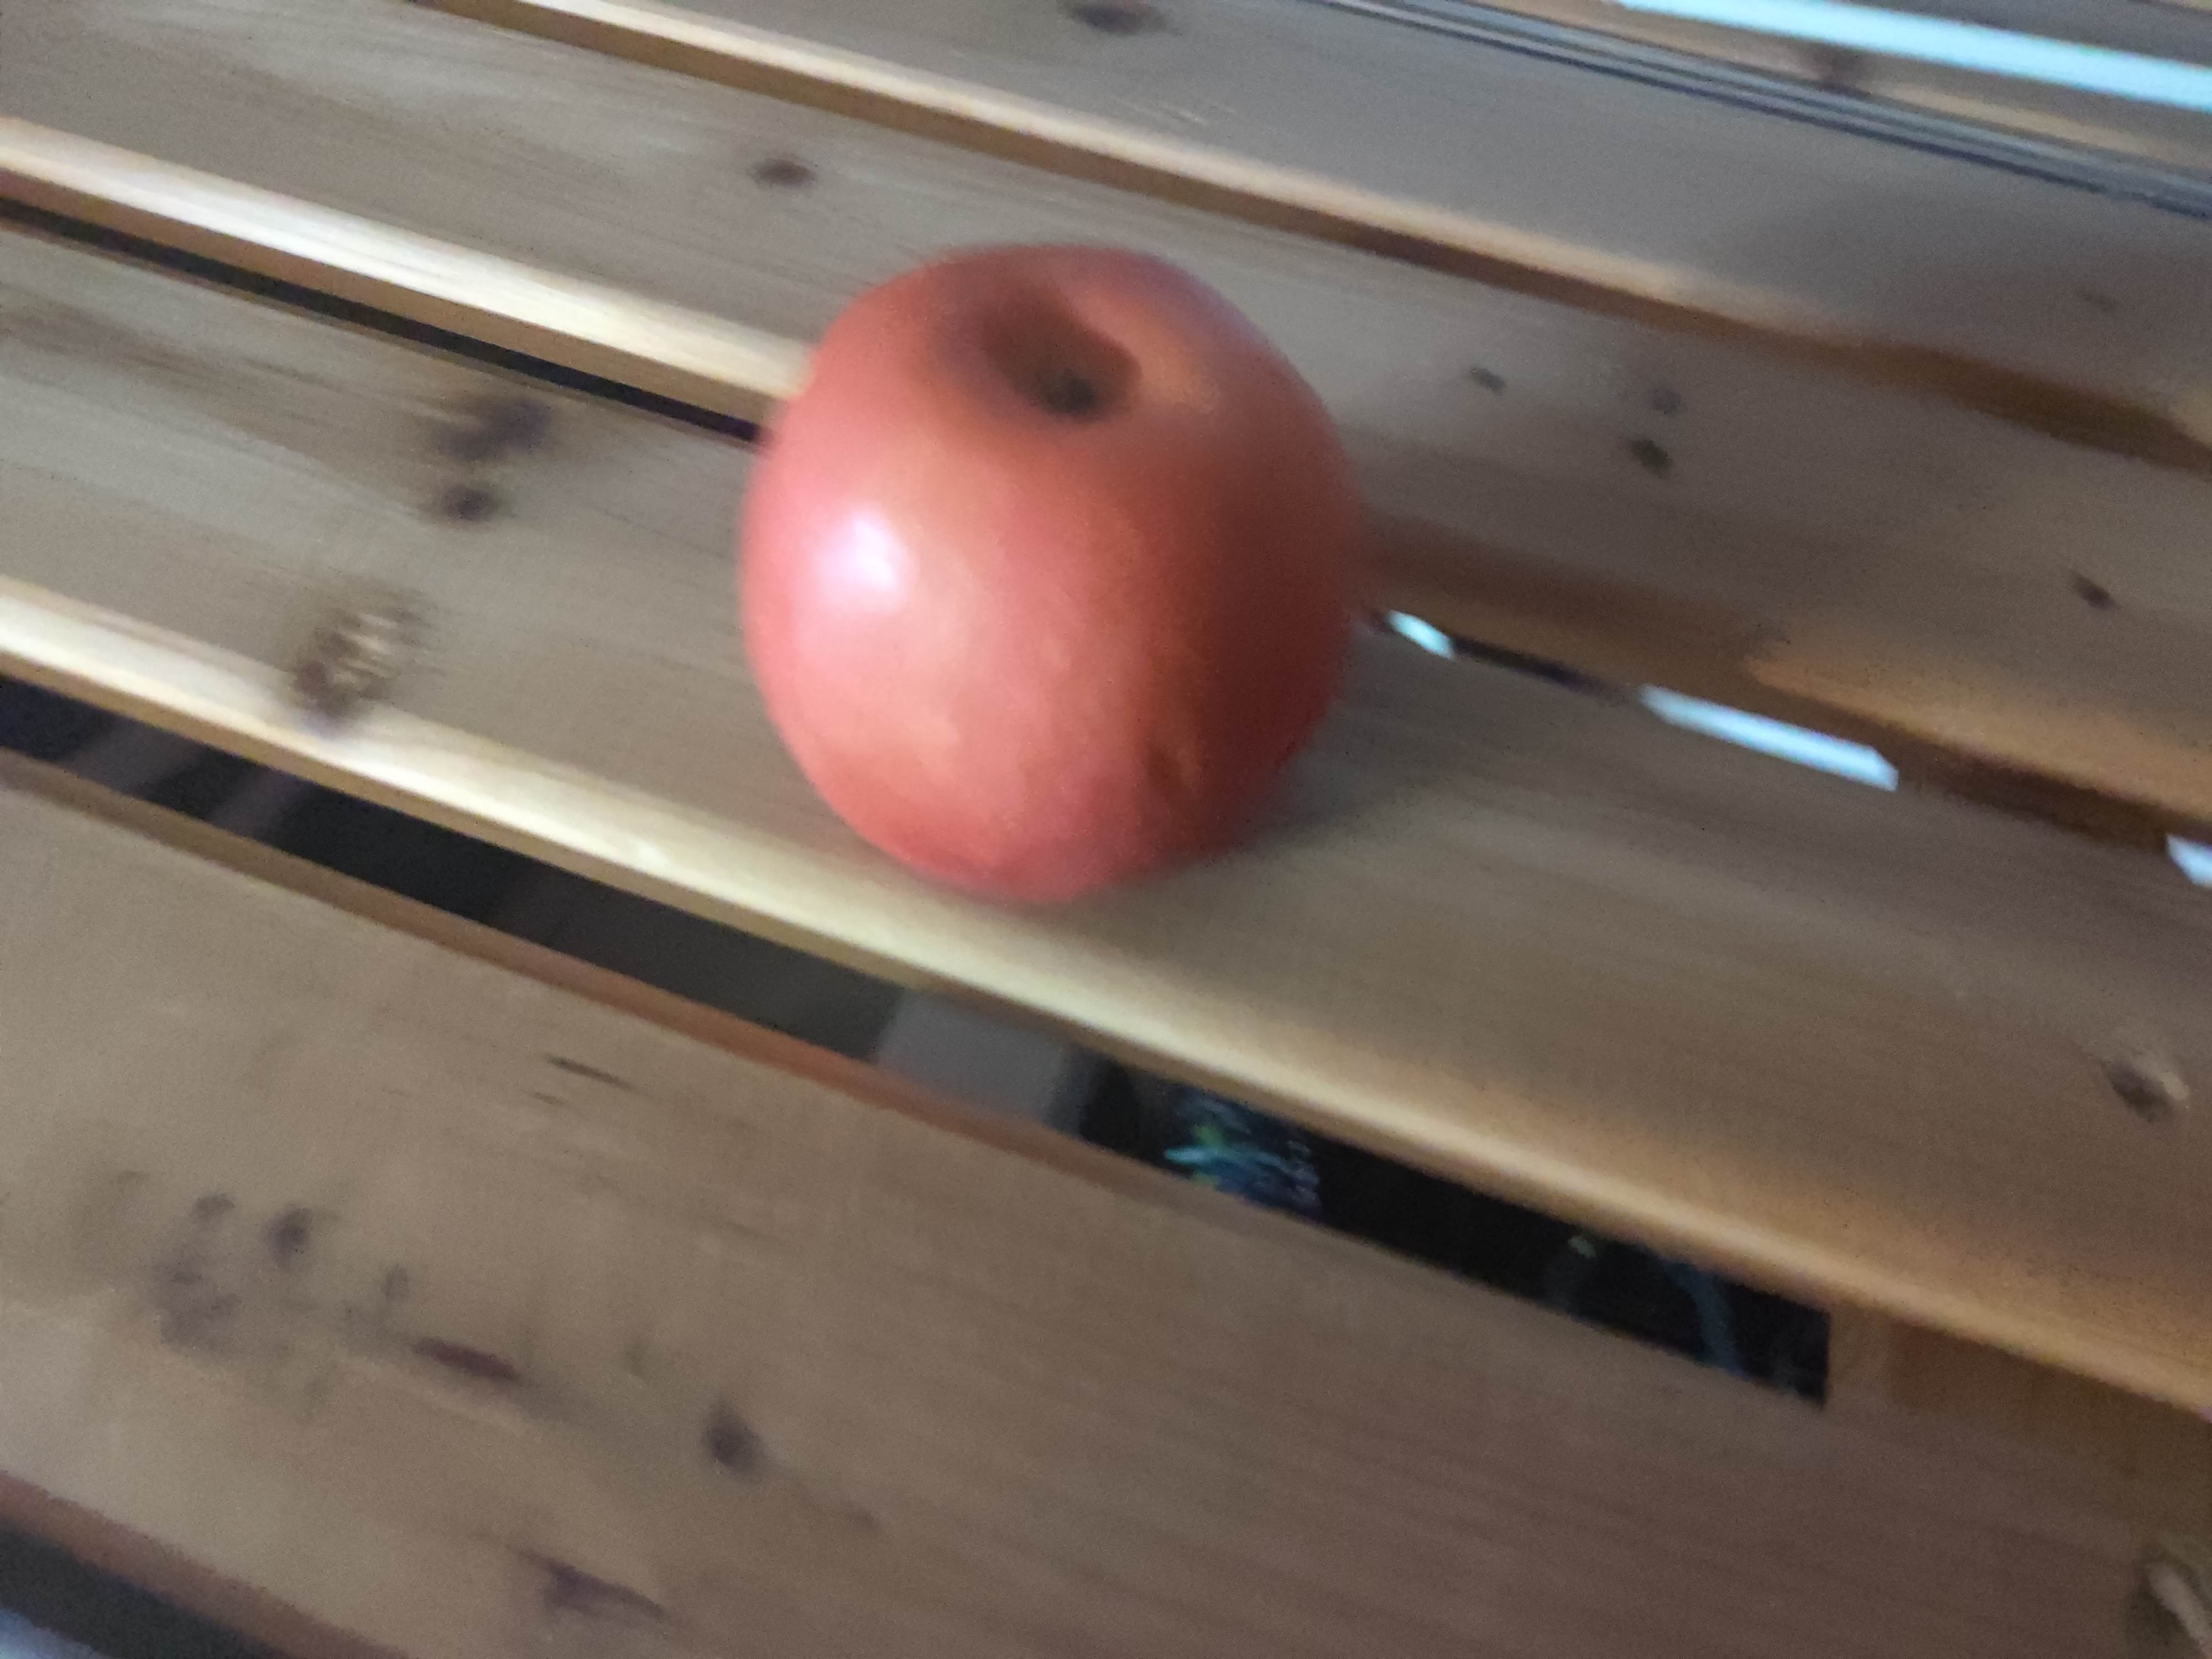apple: (725, 242, 1367, 920)
